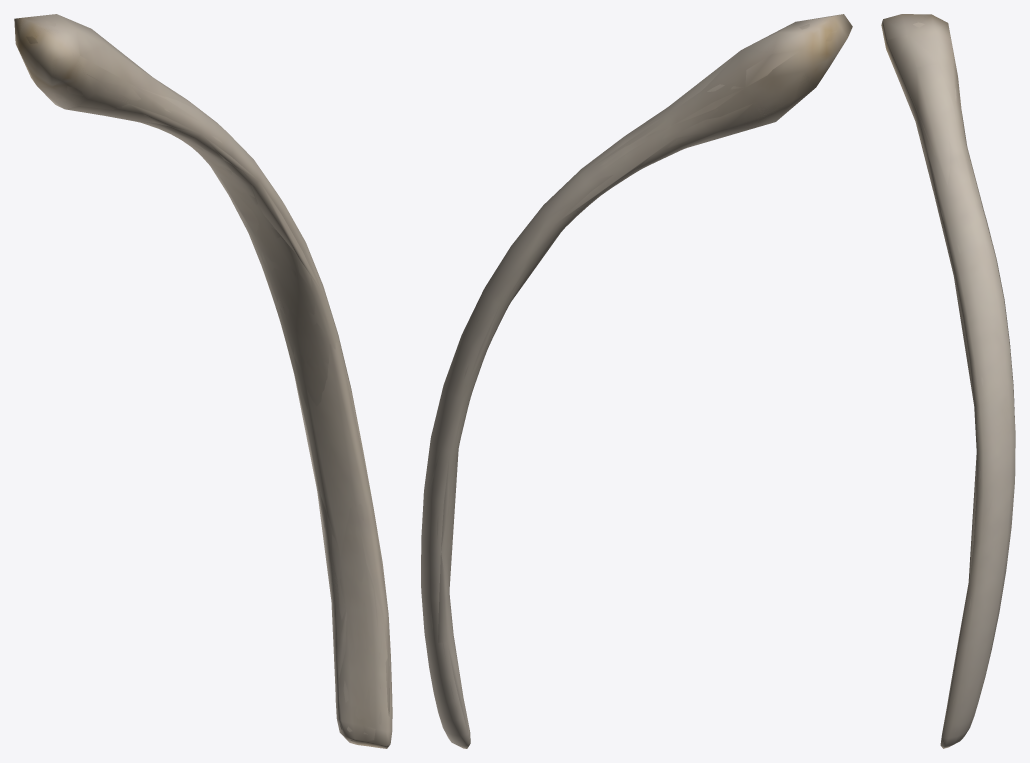
File: Rib L15.fbx
The picture shows the model from 3 angles, left to right: view 1: azimuth 30°, elevation 25°; view 2: azimuth 150°, elevation 25°; view 3: azimuth 270°, elevation 25°; orthographic projection. The views are drawn at different scales.
Visible parts, largest first — view 1: Rib L15, Rib L15 low, Rib L15 high; view 2: Rib L15, Rib L15 low, Rib L15 high; view 3: Rib L15, Rib L15 low, Rib L15 high.
Part boxes in pixels (<box>): Rib L15: <box>14,14,392,748</box>; Rib L15 low: <box>15,17,389,748</box>; Rib L15 high: <box>25,21,381,745</box>; Rib L15: <box>421,14,852,748</box>; Rib L15 low: <box>428,16,832,739</box>; Rib L15 high: <box>423,24,836,741</box>; Rib L15: <box>881,14,1015,748</box>; Rib L15 low: <box>882,14,1014,747</box>; Rib L15 high: <box>897,22,1014,742</box>.
Size of the model in its own units: 5.62 by 11.25 by 2.27.
1 material, 1 textured.
